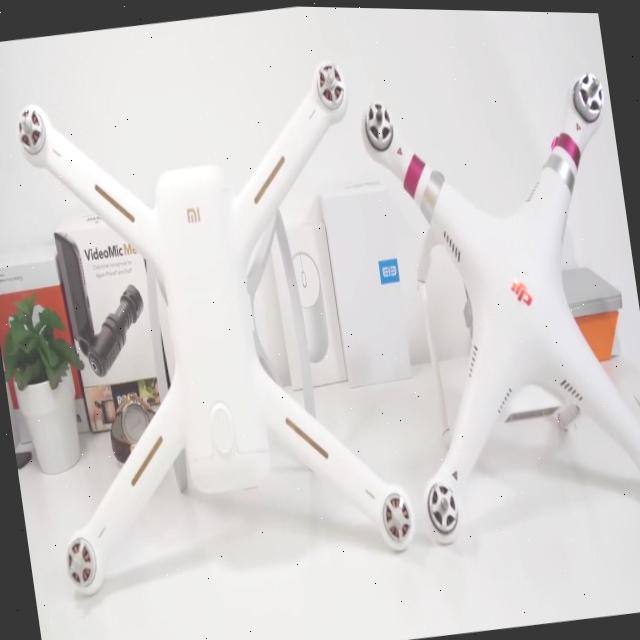drone: (0, 0, 423, 622)
